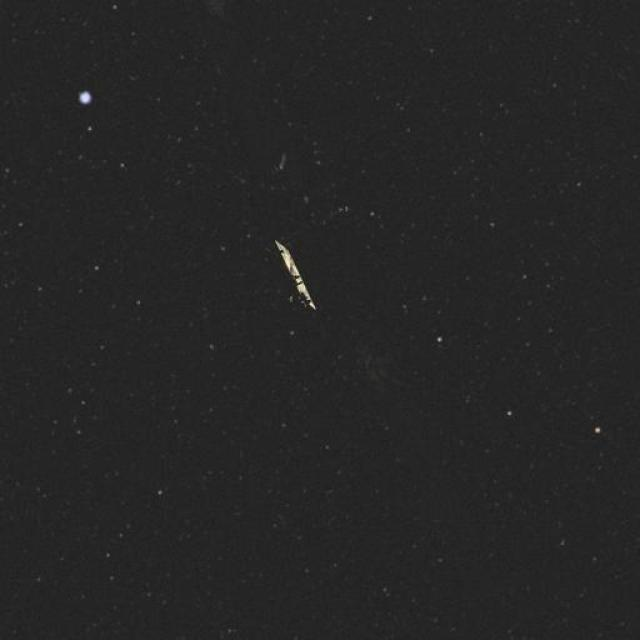smart_1: (244, 180, 410, 343)
